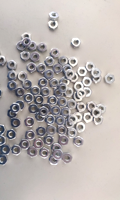nut: (25, 117, 36, 128), (49, 155, 60, 166), (62, 153, 73, 164), (71, 38, 82, 49), (48, 20, 59, 31), (105, 74, 116, 85), (10, 103, 21, 114), (67, 99, 78, 110), (51, 106, 62, 117), (45, 115, 56, 126), (57, 125, 68, 136), (67, 128, 78, 139), (76, 122, 87, 133), (76, 102, 87, 113), (37, 126, 47, 138), (39, 106, 49, 118), (67, 115, 79, 125), (0, 145, 11, 155), (12, 145, 22, 156), (20, 140, 31, 150), (28, 147, 38, 158), (26, 130, 36, 141), (11, 118, 21, 129), (34, 139, 44, 150), (40, 148, 50, 159), (53, 150, 64, 160), (52, 144, 63, 154), (45, 135, 55, 146), (7, 60, 17, 71), (27, 63, 37, 74), (7, 71, 18, 81), (15, 87, 25, 98), (23, 79, 33, 90), (38, 42, 48, 53), (50, 48, 61, 58), (38, 78, 49, 88), (24, 93, 34, 104), (41, 87, 51, 98), (65, 69, 75, 80), (58, 83, 69, 93), (77, 67, 88, 77), (74, 82, 85, 92), (35, 95, 45, 106), (57, 97, 68, 107), (55, 116, 66, 126), (65, 119, 75, 130), (59, 135, 69, 146), (74, 136, 84, 147), (51, 106, 62, 116), (74, 112, 84, 123), (92, 107, 102, 118), (7, 130, 17, 140), (8, 81, 18, 91), (18, 72, 28, 82), (17, 41, 27, 51), (30, 52, 40, 62), (45, 57, 55, 67), (59, 56, 69, 66), (45, 70, 55, 80), (37, 64, 47, 74), (31, 86, 41, 96), (83, 77, 93, 87), (86, 62, 96, 72), (92, 68, 102, 78), (77, 89, 87, 99), (29, 104, 39, 114), (49, 96, 59, 106), (36, 112, 46, 122), (47, 126, 57, 136), (87, 102, 97, 112), (84, 113, 94, 123), (94, 115, 104, 125), (61, 107, 71, 117), (50, 78, 59, 89), (49, 12, 59, 21), (22, 38, 32, 47), (21, 51, 30, 61), (54, 64, 63, 74), (69, 57, 78, 67), (60, 77, 70, 86), (65, 88, 74, 98), (70, 73, 79, 83), (83, 88, 93, 97), (93, 74, 102, 84), (74, 92, 83, 102), (54, 88, 63, 98), (8, 109, 17, 119), (17, 101, 26, 111), (98, 104, 107, 114), (0, 155, 8, 166), (22, 33, 31, 42), (43, 104, 52, 113), (63, 65, 73, 73), (29, 42, 37, 51), (0, 56, 7, 66), (0, 125, 6, 135), (0, 136, 6, 146), (0, 88, 3, 99)
